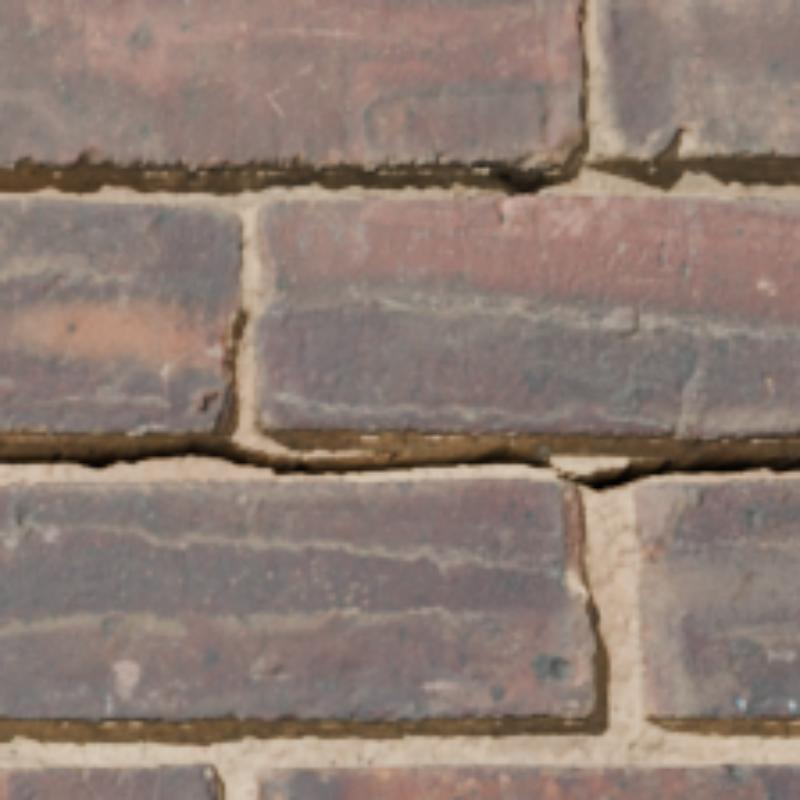pothole: (0, 432, 550, 471), (550, 446, 796, 489), (500, 171, 546, 193)
